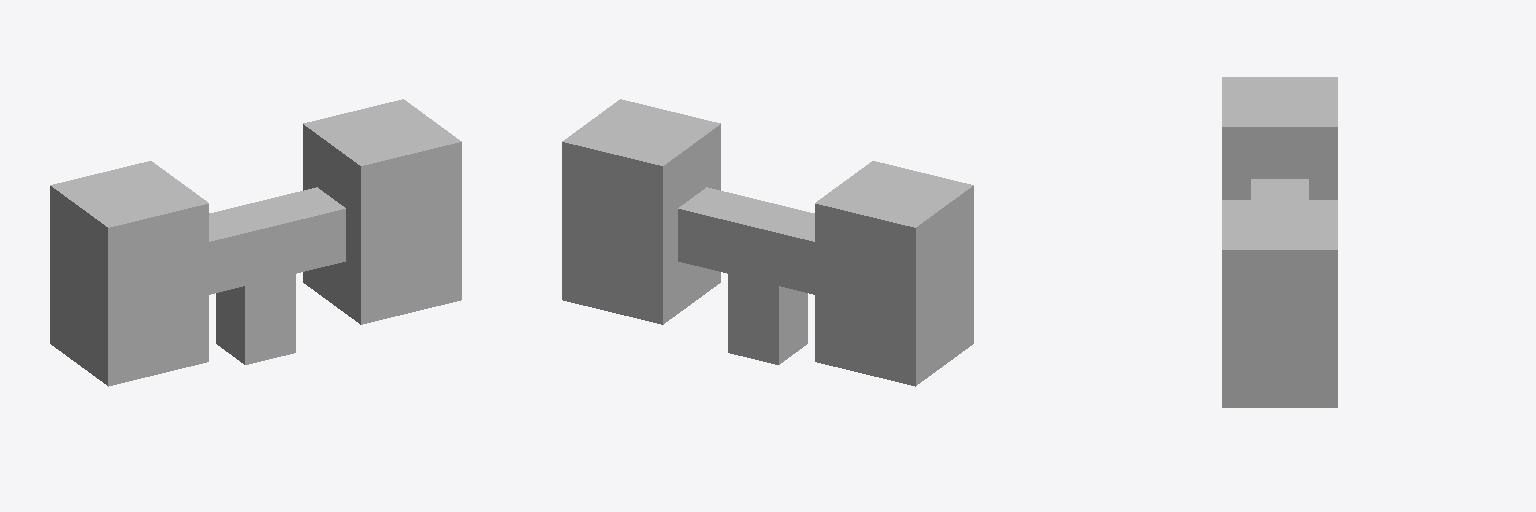
Rendered from centrifuge_spin.obj.
The picture shows the model from 3 angles: view 1: azimuth 30°, elevation 25°; view 2: azimuth 150°, elevation 25°; view 3: azimuth 270°, elevation 25°; orthographic projection.
Parts seen in each view (by area): view 1: Cube.001; view 2: Cube.001; view 3: Cube.001.
Boxes of the visible parts, x1=… form: Cube.001: x1=50, y1=99, x2=461, y2=386; Cube.001: x1=562, y1=99, x2=973, y2=386; Cube.001: x1=1222, y1=77, x2=1337, y2=407.
Bounding box in the file's own units: 0.875 × 0.4375 × 0.25.